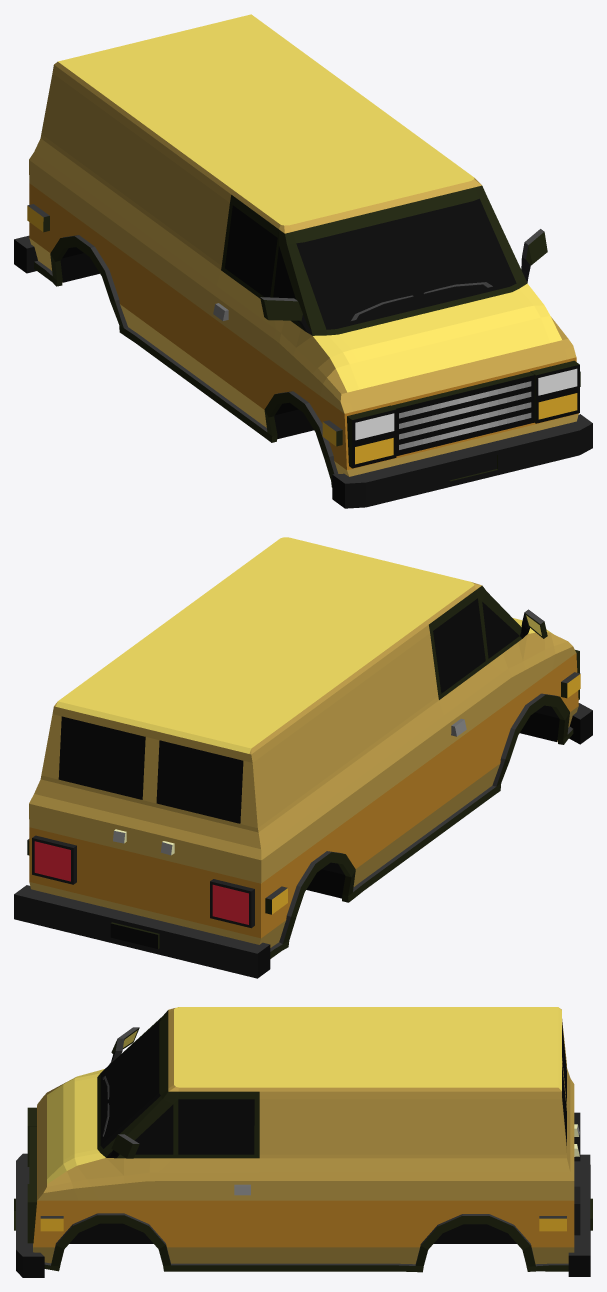
Rendered from Van.005.fbx.
The picture shows the model from 3 angles, top to bottom: view 1: azimuth 30°, elevation 25°; view 2: azimuth 150°, elevation 25°; view 3: azimuth 270°, elevation 25°; orthographic projection. The views are drawn at different scales.
Parts seen in each view (by area): view 1: Van.005; view 2: Van.005; view 3: Van.005.
Part boxes in pixels (left/top/right/bottom): Van.005: left=14, top=14, right=592, bottom=508; Van.005: left=14, top=537, right=592, bottom=978; Van.005: left=14, top=1007, right=592, bottom=1277.
Size of the model in its own units: 1.92 by 1.38 by 4.03.
